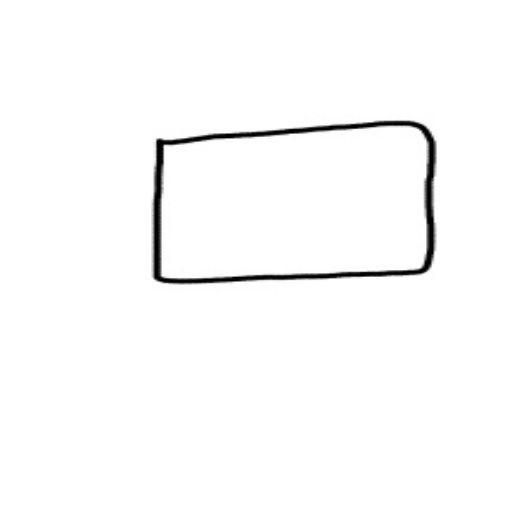rectangle: (142, 116, 440, 292)
